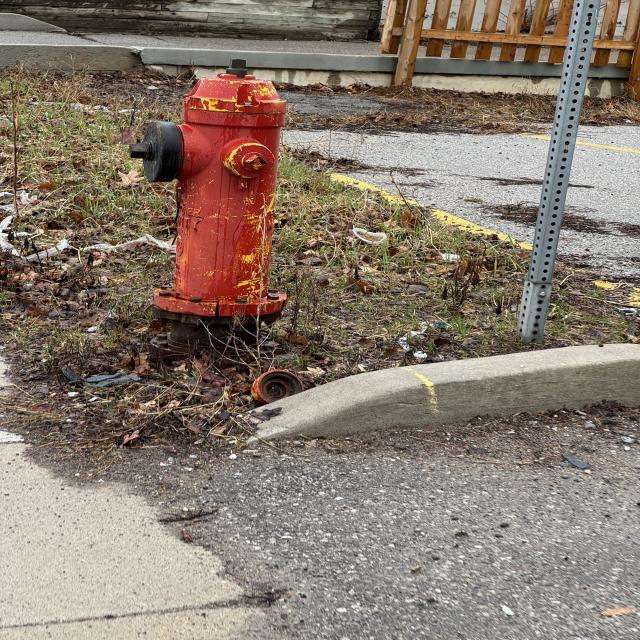Fire hydrant: (128, 57, 290, 326)
